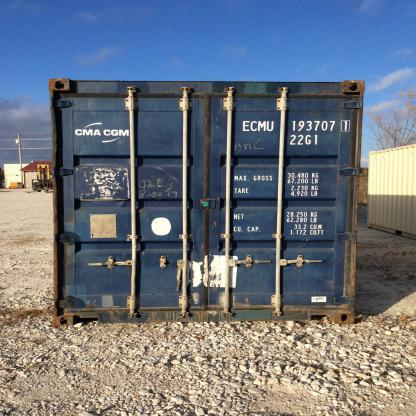Damage: (74, 167, 174, 213), (318, 140, 345, 192), (58, 248, 82, 298), (64, 141, 92, 170), (233, 294, 275, 311), (281, 302, 347, 312), (62, 209, 90, 232), (312, 83, 341, 105), (80, 86, 105, 110), (321, 274, 338, 292), (236, 208, 256, 221), (112, 134, 128, 146), (304, 107, 323, 116)
